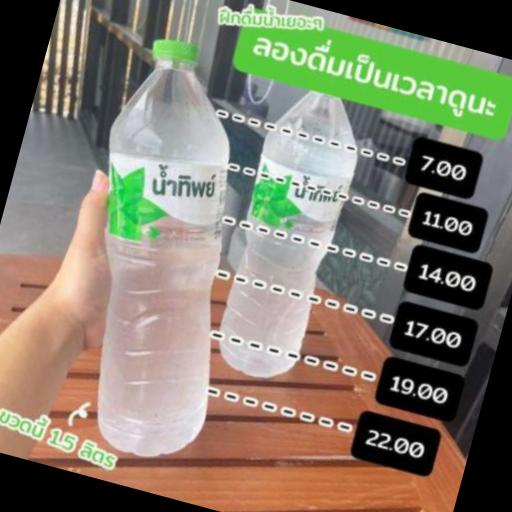Coca: (24, 14, 310, 481), (199, 45, 384, 398)
